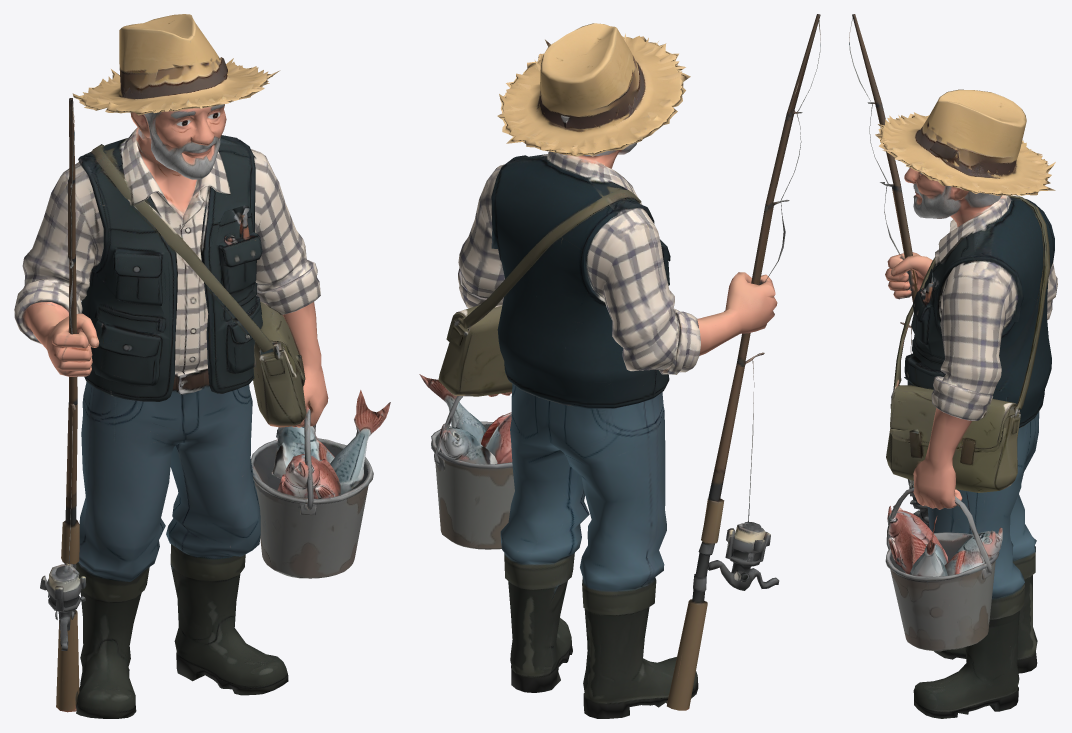
The model's file is pescador glb.glb.
3 views of the same model, side by side, from view 1: azimuth 30°, elevation 25°; view 2: azimuth 150°, elevation 25°; view 3: azimuth 270°, elevation 25° (orthographic). The views are drawn at different scales.
Bounding box in the file's own units: 0.5356 × 0.9512 × 0.3013.
1 material, 1 textured.
